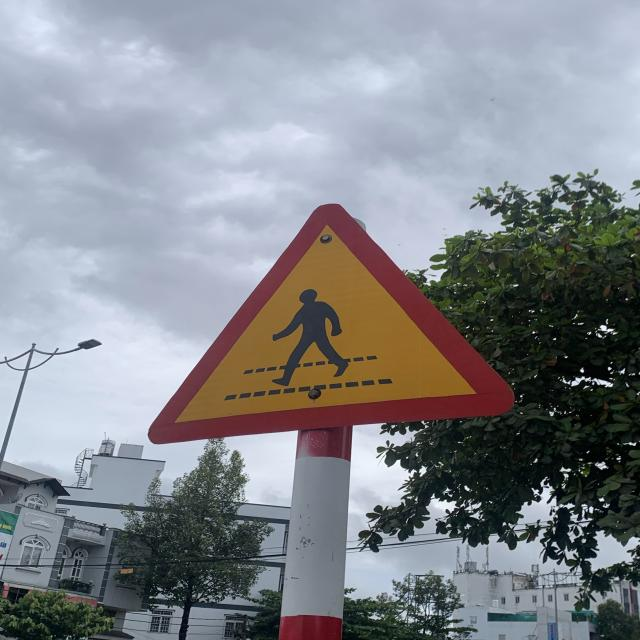Duong_Nguoi_Di_Bo_Sang_Ngang: (146, 204, 514, 446)
